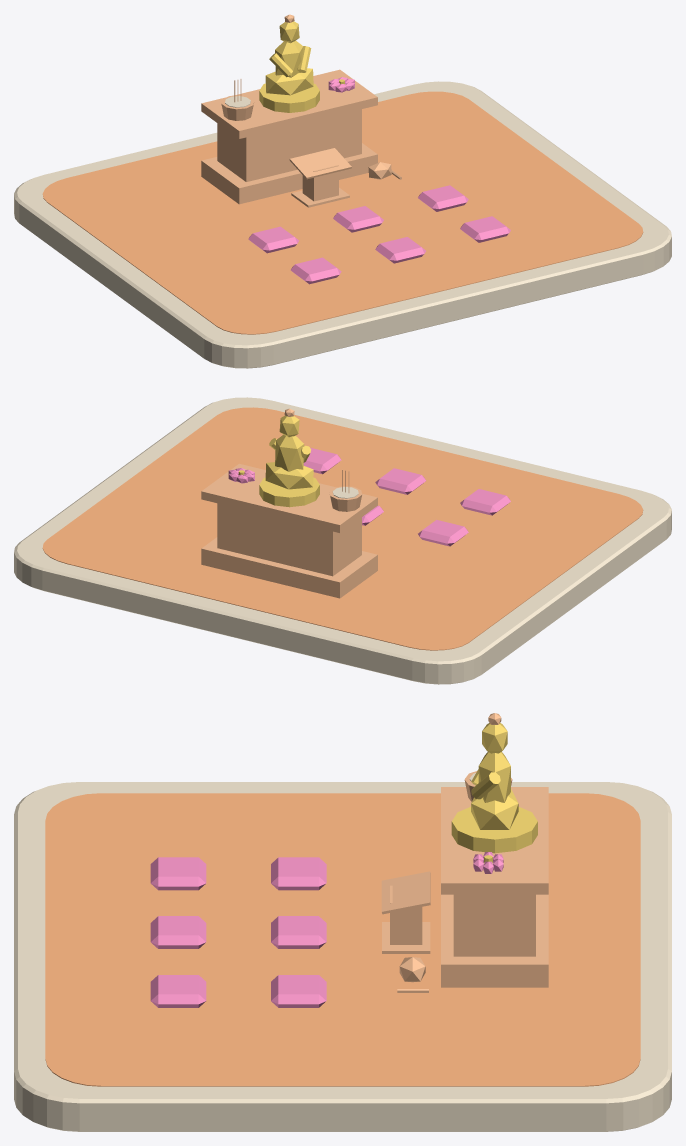
Rendered from room.fbx.
3 views of the same model, one above another, from view 1: azimuth 30°, elevation 25°; view 2: azimuth 150°, elevation 25°; view 3: azimuth 270°, elevation 25° (orthographic). The views are drawn at different scales.
Parts seen in each view (by area): view 1: COM-02 Floor Surface, COM-01 Rounded Base Direct, Altar, Top, Base, Reading top, Lotus base, Folded legs, Body, Meditation cushion, Meditation cushion.005, Meditation cushion.001 (+4 smaller); view 2: COM-02 Floor Surface, COM-01 Rounded Base Direct, Altar, Top, Base, Lotus base, Folded legs, Robe torso, Meditation cushion.004, Meditation cushion, Meditation cushion.003, Meditation cushion.005 (+1 smaller); view 3: COM-02 Floor Surface, COM-01 Rounded Base Direct, Top, Altar, Base, Lotus base, Meditation cushion.003, Meditation cushion, Meditation cushion.004, Meditation cushion.005, Meditation cushion.001, Meditation cushion.002 (+6 smaller).
Boxes of the visible parts, box(x1,y1,x2,y2) form: COM-02 Floor Surface: box(42, 91, 643, 334); COM-01 Rounded Base Direct: box(14, 81, 671, 368); Altar: box(217, 109, 361, 181); Top: box(201, 69, 377, 138); Base: box(201, 143, 377, 204); Reading top: box(289, 148, 351, 179); Lotus base: box(259, 83, 319, 112); Folded legs: box(265, 68, 313, 95); Body: box(302, 165, 338, 201); Meditation cushion: box(248, 226, 299, 253); Meditation cushion.005: box(460, 216, 510, 242); Meditation cushion.001: box(333, 206, 383, 232); COM-02 Floor Surface: box(42, 407, 643, 650); COM-01 Rounded Base Direct: box(14, 397, 671, 684); Altar: box(217, 503, 361, 576); Top: box(201, 463, 377, 532); Base: box(201, 537, 377, 598); Lotus base: box(259, 477, 319, 507); Folded legs: box(265, 462, 313, 489); Robe torso: box(275, 435, 304, 471); Meditation cushion.004: box(375, 468, 426, 494); Meditation cushion: box(418, 519, 468, 546); Meditation cushion.003: box(460, 489, 510, 515); Meditation cushion.005: box(303, 447, 341, 474); COM-02 Floor Surface: box(45, 793, 640, 1086); COM-01 Rounded Base Direct: box(14, 782, 671, 1131); Top: box(441, 787, 548, 894); Altar: box(453, 894, 535, 956); Base: box(441, 894, 548, 987); Lotus base: box(451, 807, 537, 853); Meditation cushion.003: box(150, 857, 206, 890); Meditation cushion: box(271, 857, 326, 890); Meditation cushion.004: box(150, 916, 206, 948); Meditation cushion.005: box(150, 975, 206, 1007); Meditation cushion.001: box(271, 916, 326, 948); Meditation cushion.002: box(271, 975, 326, 1007).
Bounding box in the file's own units: 600 × 227 × 520.
